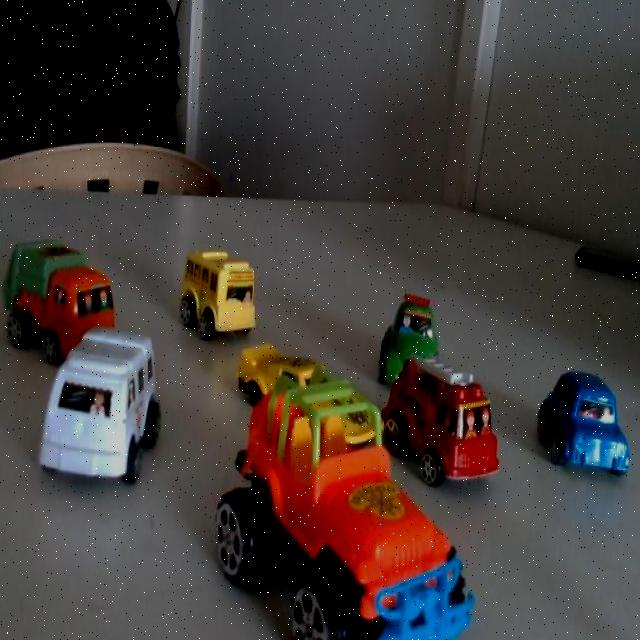car: (334, 489, 486, 640), (255, 347, 394, 481), (539, 362, 640, 498), (56, 348, 166, 466), (416, 360, 509, 499), (25, 236, 128, 360), (387, 296, 460, 395), (203, 246, 266, 334)
